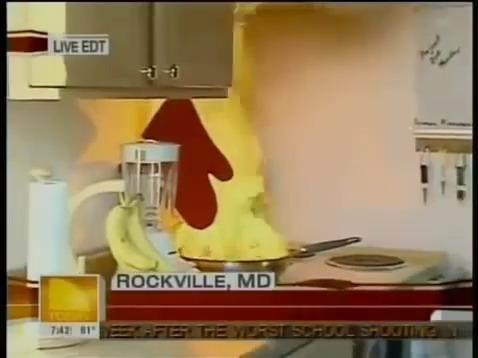fire: (148, 98, 299, 259)
